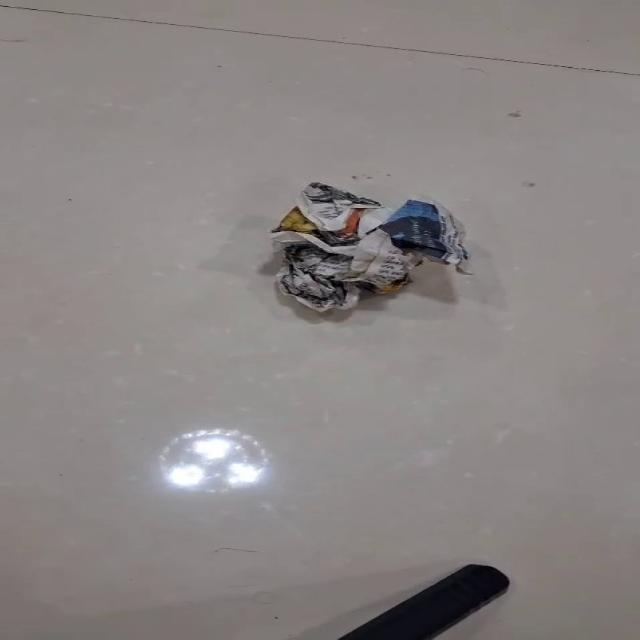paper: (268, 181, 472, 313)
